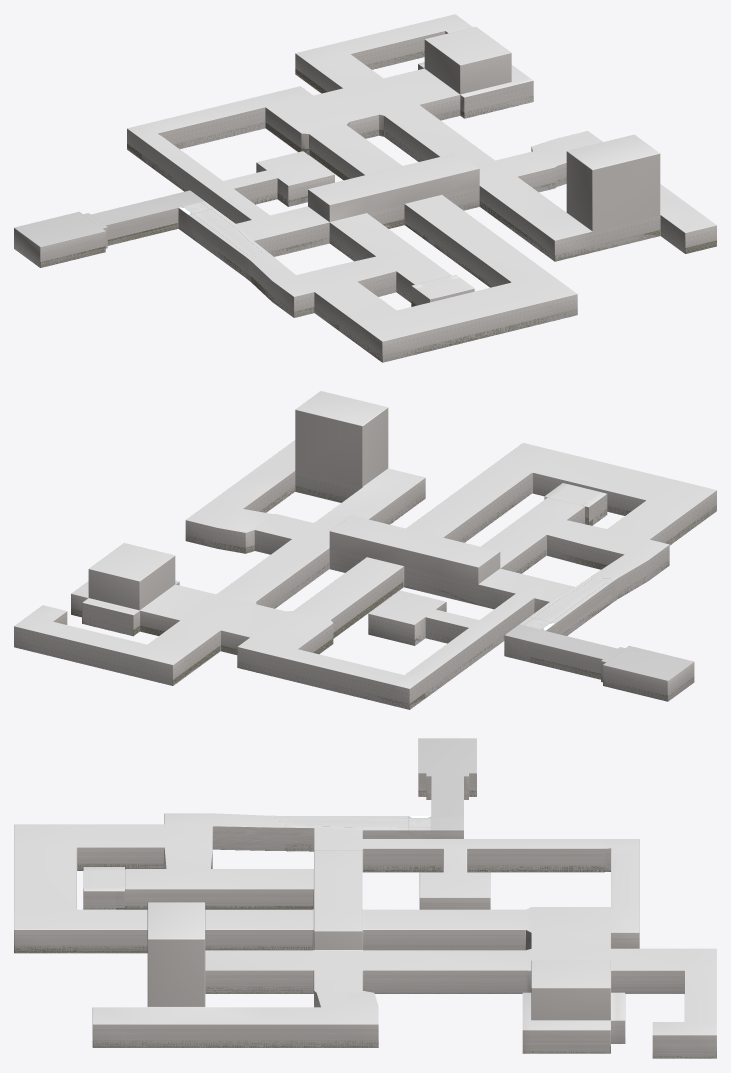
File: MapLayout.fbx
3 views of the same model, one above another, from view 1: azimuth 30°, elevation 25°; view 2: azimuth 150°, elevation 25°; view 3: azimuth 270°, elevation 25° (orthographic). The views are drawn at different scales.
Visible parts, largest first — view 1: Cube, Cube.001; view 2: Cube, Cube.001; view 3: Cube, Cube.001.
Part boxes in pixels (x1=…): Cube: x1=14, y1=14, x2=716, y2=362; Cube.001: x1=27, y1=51, x2=716, y2=362; Cube: x1=14, y1=391, x2=716, y2=709; Cube.001: x1=71, y1=486, x2=716, y2=709; Cube: x1=14, y1=738, x2=716, y2=1058; Cube.001: x1=14, y1=790, x2=716, y2=1058.
Size of the model in its own units: 14010 by 2018 by 14003.
Materials: 4 (4 with a texture image).
